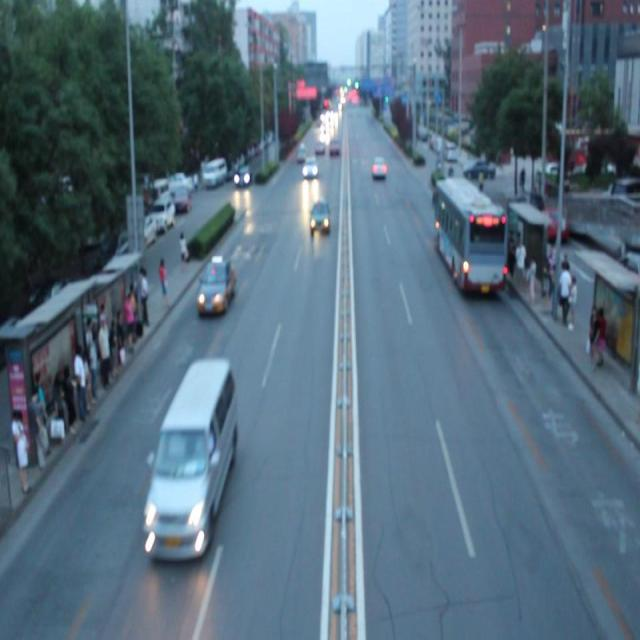car: (200, 259, 233, 318), (309, 197, 329, 232), (371, 155, 386, 177), (302, 155, 317, 176)
truck: (149, 358, 229, 559)
van: (432, 177, 506, 290)
